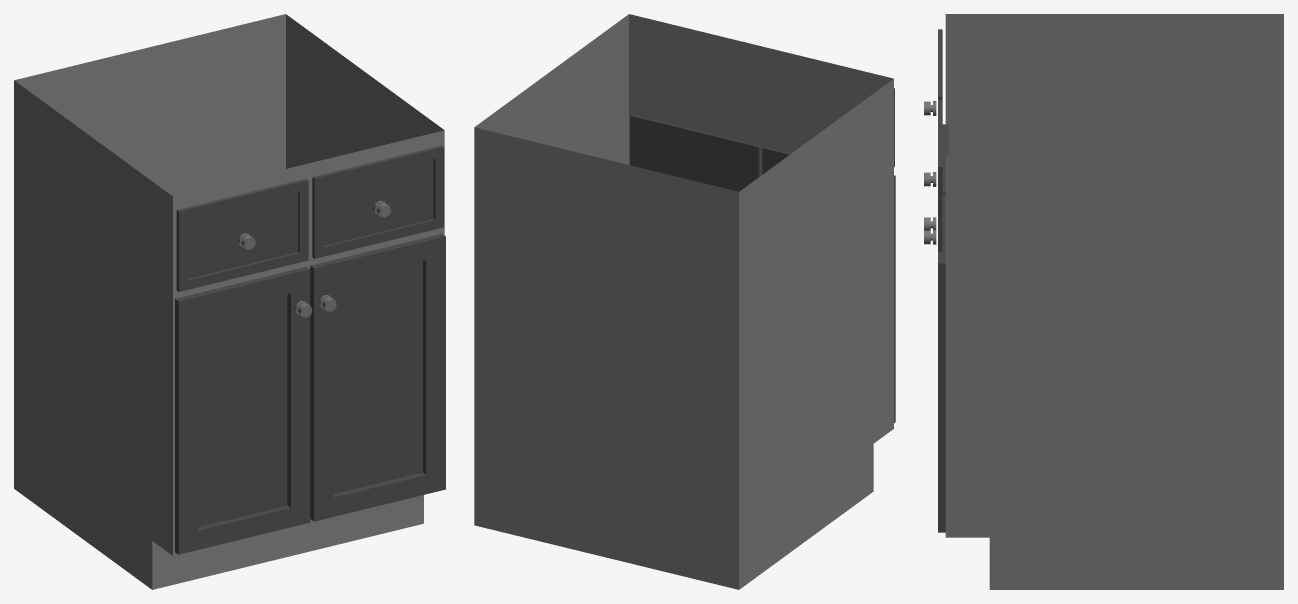
The model's file is BaseLowerCabinet.fbx.
3 views of the same model, side by side, from view 1: azimuth 30°, elevation 25°; view 2: azimuth 150°, elevation 25°; view 3: azimuth 270°, elevation 25° (orthographic). The views are drawn at different scales.
Visible parts, largest first — view 1: Cube.036; view 2: Cube.036; view 3: Cube.036.
Part boxes in pixels (box(x1,y1,x2,y2)): Cube.036: box(14, 14, 445, 589); Cube.036: box(474, 14, 895, 589); Cube.036: box(924, 14, 1283, 589).
Bounding box in the file's own units: 61 × 87.63 × 65.72.
2 materials, 1 textured.
